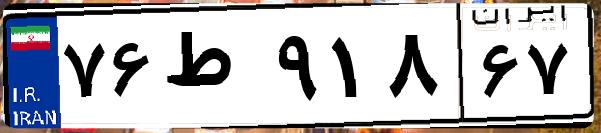1: (330, 28, 385, 110)
6: (475, 38, 525, 113), (110, 28, 158, 98)
7: (57, 26, 110, 100), (525, 38, 570, 115)
8: (385, 28, 445, 110)
9: (270, 28, 330, 110)
ط: (158, 20, 270, 120)
